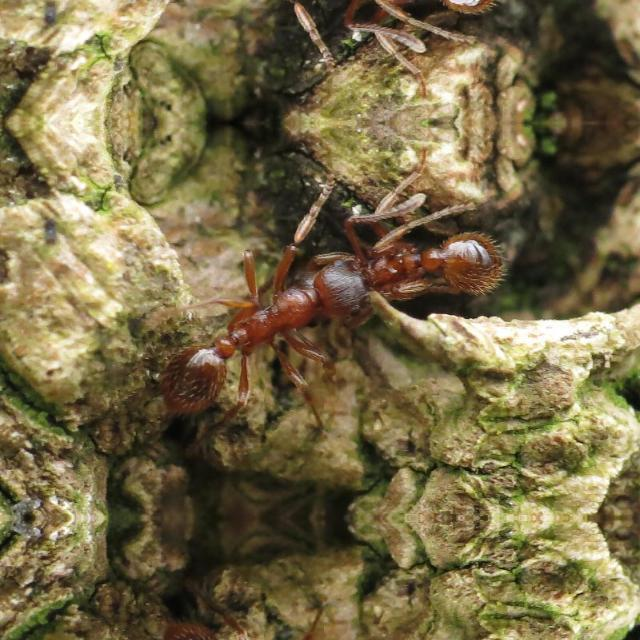Myrmica: (124, 224, 390, 421), (326, 190, 526, 322), (326, 0, 526, 54)
